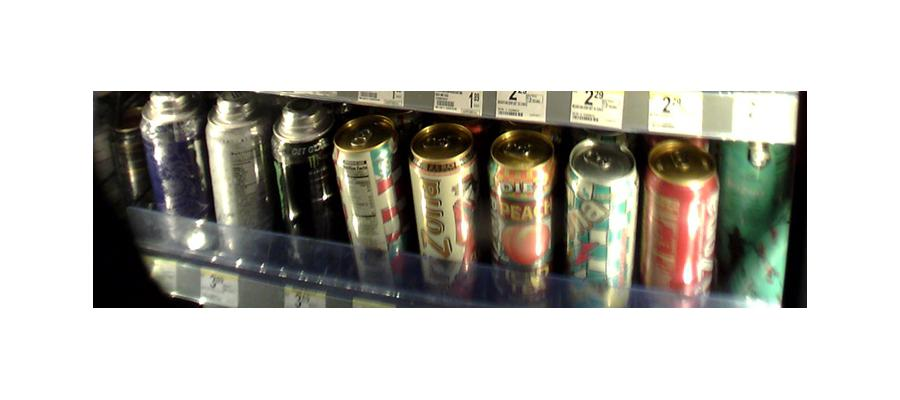bottle: (722, 102, 795, 301), (563, 142, 638, 305), (643, 143, 716, 300), (334, 123, 403, 287), (412, 128, 479, 295), (488, 133, 555, 299), (205, 97, 272, 261), (143, 91, 208, 253), (268, 101, 331, 266)
